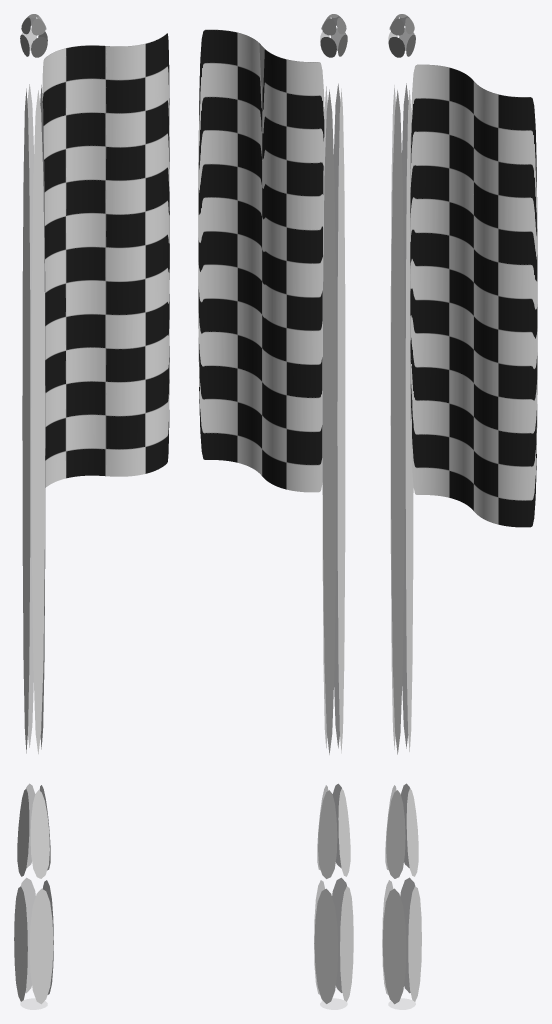
Rendered from flag_checkers.glb.
3 views of the same model, side by side, from view 1: azimuth 30°, elevation 25°; view 2: azimuth 150°, elevation 25°; view 3: azimuth 330°, elevation 25° (orthographic).
Visible parts, largest first — view 1: flag_checkers; view 2: flag_checkers; view 3: flag_checkers.
Boxes of the visible parts, x1=… form: flag_checkers: x1=14, y1=14, x2=169, y2=1009; flag_checkers: x1=198, y1=14, x2=353, y2=1009; flag_checkers: x1=382, y1=14, x2=537, y2=1009.
Size of the model in its own units: 0.1969 by 1.25 by 0.0349.
4 materials, 1 textured.
